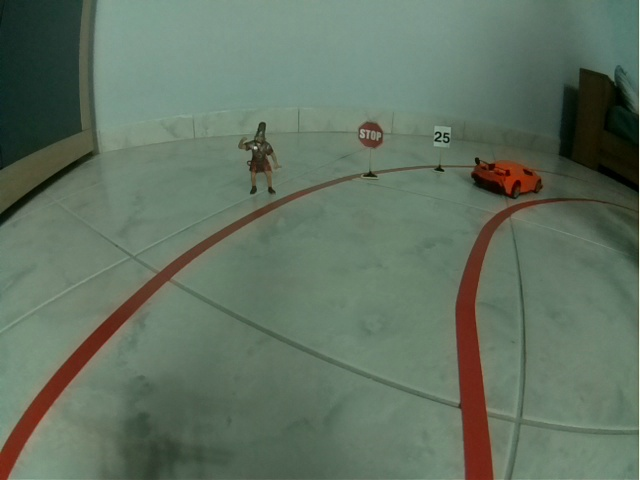Lambo: (469, 155, 545, 200)
Person: (237, 121, 283, 195)
Speed Limit 25: (433, 125, 452, 149)
Stop: (358, 121, 384, 149)
